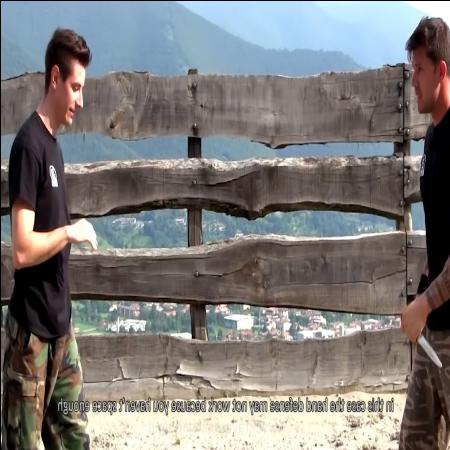long weapon: (398, 306, 444, 368)
